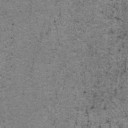oxide scale of temperature system: (74, 92, 124, 128), (107, 2, 128, 39), (104, 58, 127, 78), (114, 88, 126, 102), (40, 28, 51, 40), (57, 38, 63, 46), (106, 48, 112, 56), (73, 19, 80, 24), (2, 11, 8, 16), (87, 44, 92, 50)
